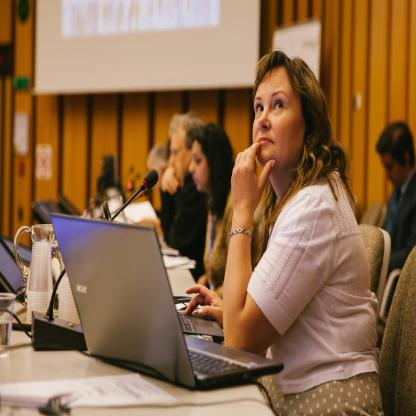board: (39, 215, 251, 390), (177, 312, 224, 343)
